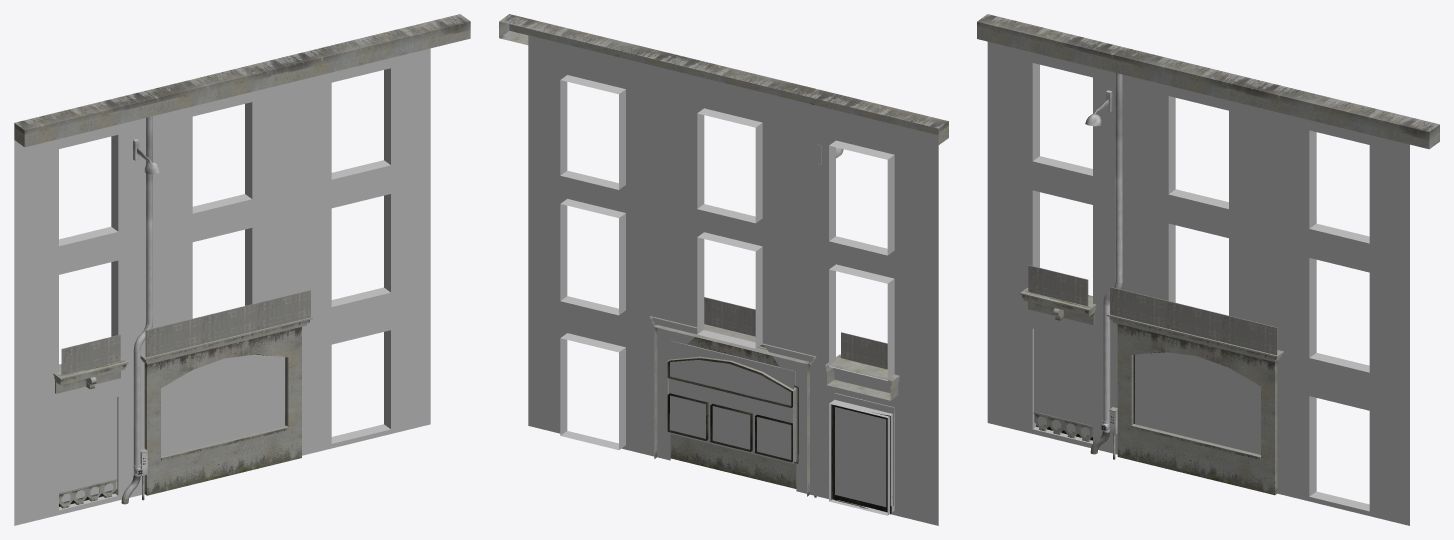
The model's file is Building01.fbx.
3 views of the same model, side by side, from view 1: azimuth 30°, elevation 25°; view 2: azimuth 150°, elevation 25°; view 3: azimuth 330°, elevation 25° (orthographic). The views are drawn at different scales.
Visible parts, largest first — view 1: polySurface334, polySurface374, polySurface373, pCube46, pCube51, pCube50, polySurface341, pCube45, pCube47, pCube49, pCube48, polySurface370 (+3 smaller); view 2: polySurface334, polySurface343, polySurface374, polySurface373, polySurface341, polySurface371, pCube45, pCube48, pCube46, polySurface370; view 3: polySurface334, polySurface374, polySurface373, pCube46, pCube50, pCube51, polySurface341, pCube45, pCube49, pCube47, pCube48, polySurface370 (+3 smaller).
Boxes of the visible parts, x1,y1,x2,y2 form: polySurface334: (14,48,430,525); polySurface374: (14,14,470,147); polySurface373: (144,327,301,495); pCube46: (59,397,117,502); pCube51: (223,354,285,440); pCube50: (161,359,222,455); polySurface341: (59,116,286,506); pCube45: (61,334,120,375); pCube47: (145,317,201,357); pCube49: (255,290,310,330); pCube48: (201,303,256,343); polySurface370: (140,316,312,364); polySurface334: (528,35,938,525); polySurface343: (666,340,886,506); polySurface374: (499,14,948,144); polySurface373: (654,325,809,496); polySurface341: (667,103,891,513); polySurface371: (825,354,899,400); pCube45: (841,332,887,369); pCube48: (711,298,755,336); pCube46: (834,393,894,505); polySurface370: (649,316,816,364); polySurface334: (987,41,1409,525); polySurface374: (977,14,1439,149); polySurface373: (1117,324,1277,495); pCube46: (1034,329,1092,435); pCube50: (1134,352,1198,439); pCube51: (1198,357,1260,454); polySurface341: (1036,73,1164,459); pCube45: (1028,265,1088,306); pCube49: (1221,314,1277,355); pCube47: (1110,287,1165,328); pCube48: (1166,300,1221,341); polySurface370: (1106,312,1283,361).
Bounding box in the file's own units: 1077 × 938 × 124.
